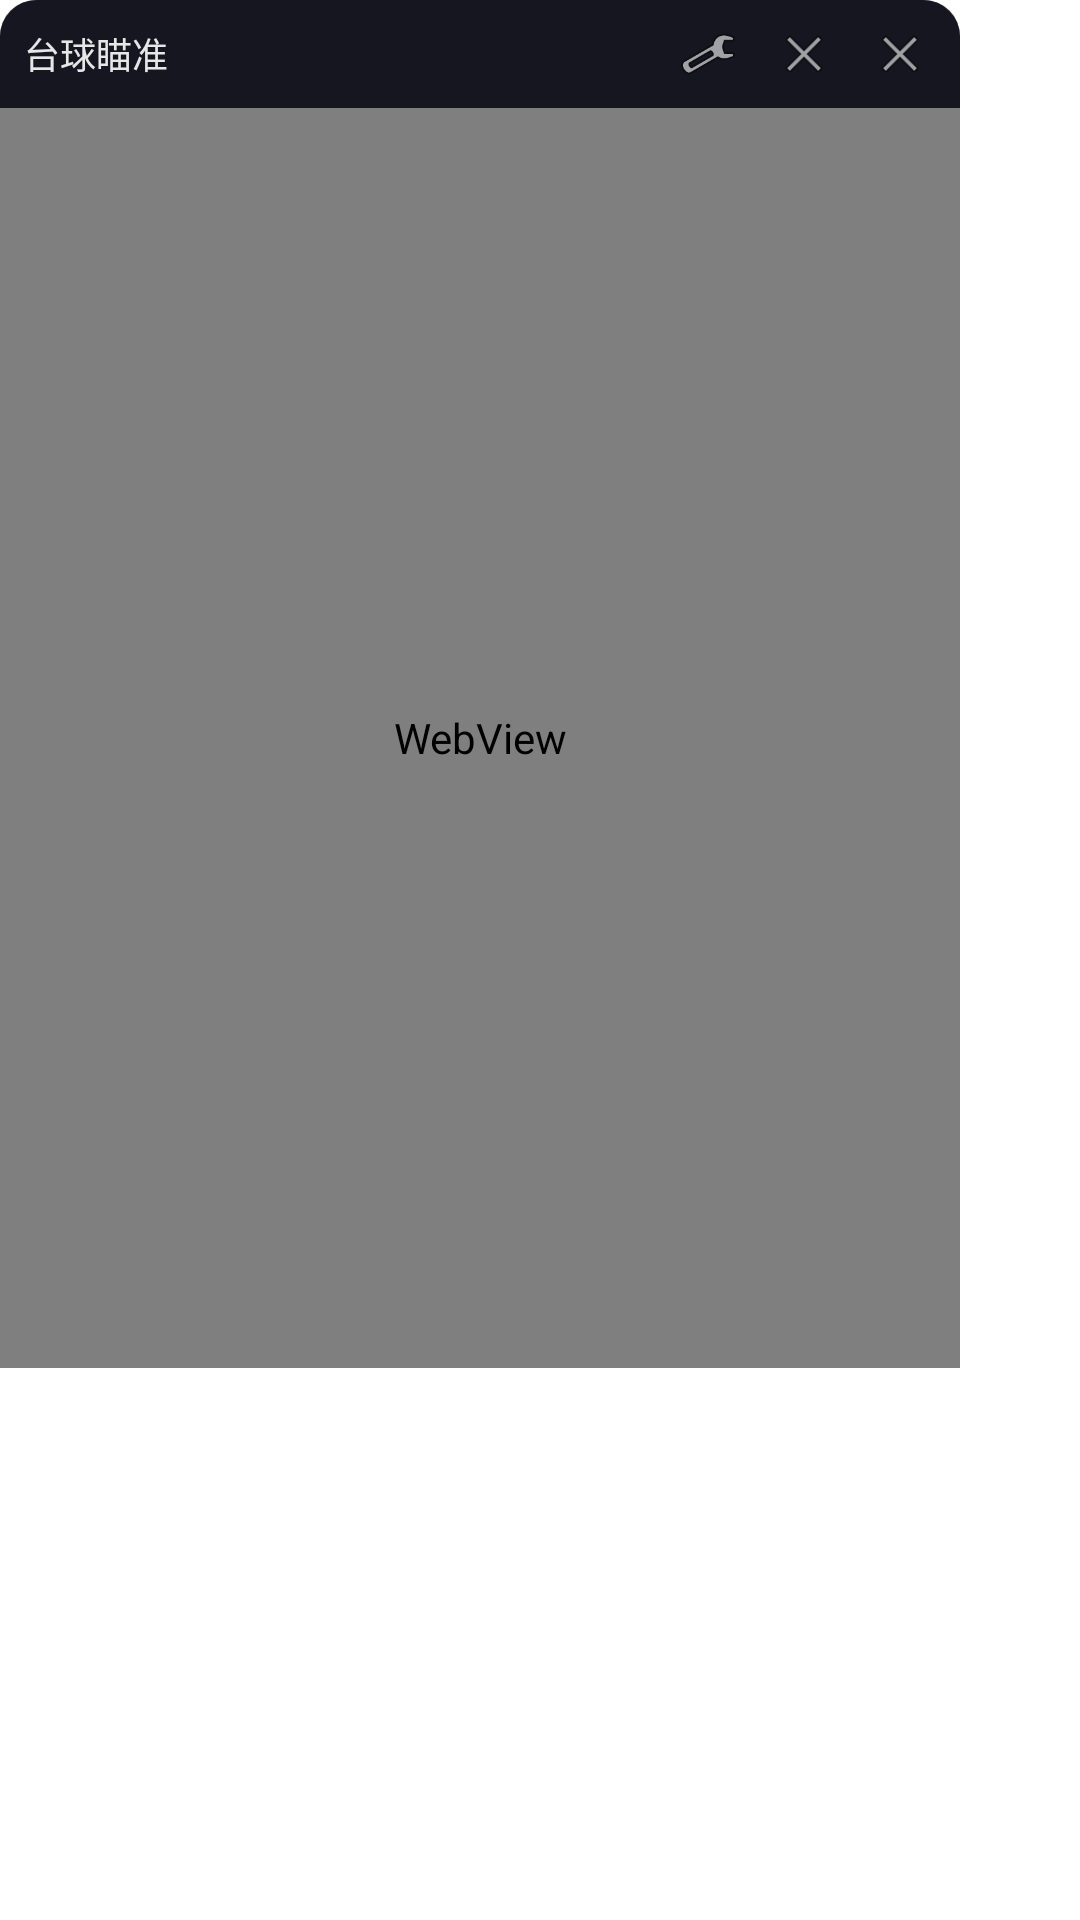

Screen size 1080 x 1920. Icon name, then its box in pixels as detection(x1, y1, x2, y2):
关闭: detection(883, 37, 917, 71)
设置: detection(683, 35, 733, 73)
